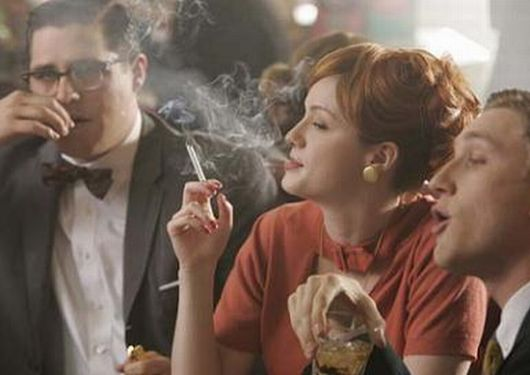cigarette: (184, 143, 218, 197)
